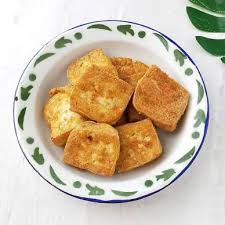Tahu goreng: (129, 63, 197, 131), (69, 60, 132, 125), (60, 120, 122, 181), (113, 116, 163, 172), (42, 86, 80, 146), (65, 45, 116, 84)
